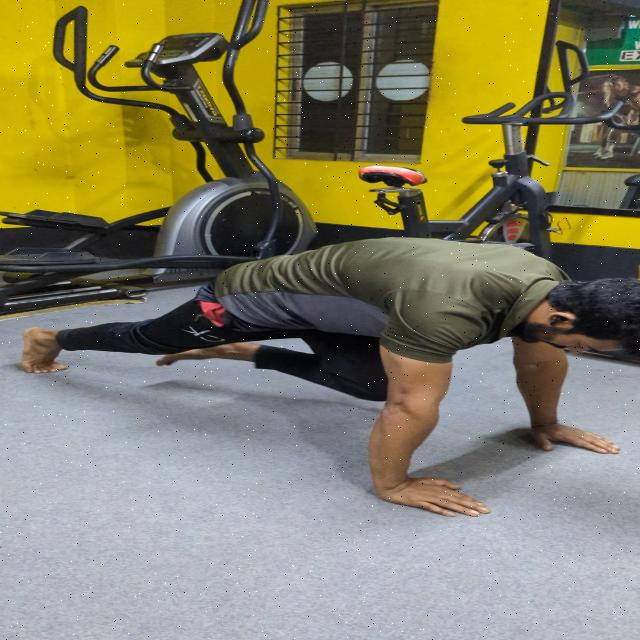Normal_MountainClimbers: (0, 211, 640, 501)
